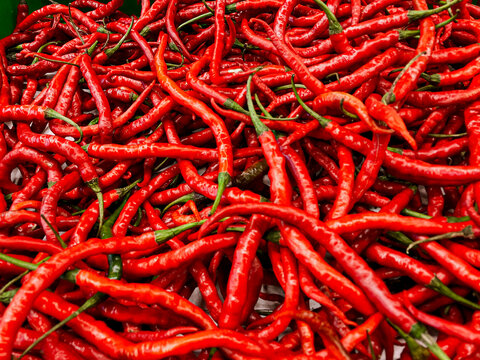Cabai: (124, 78, 360, 307)
